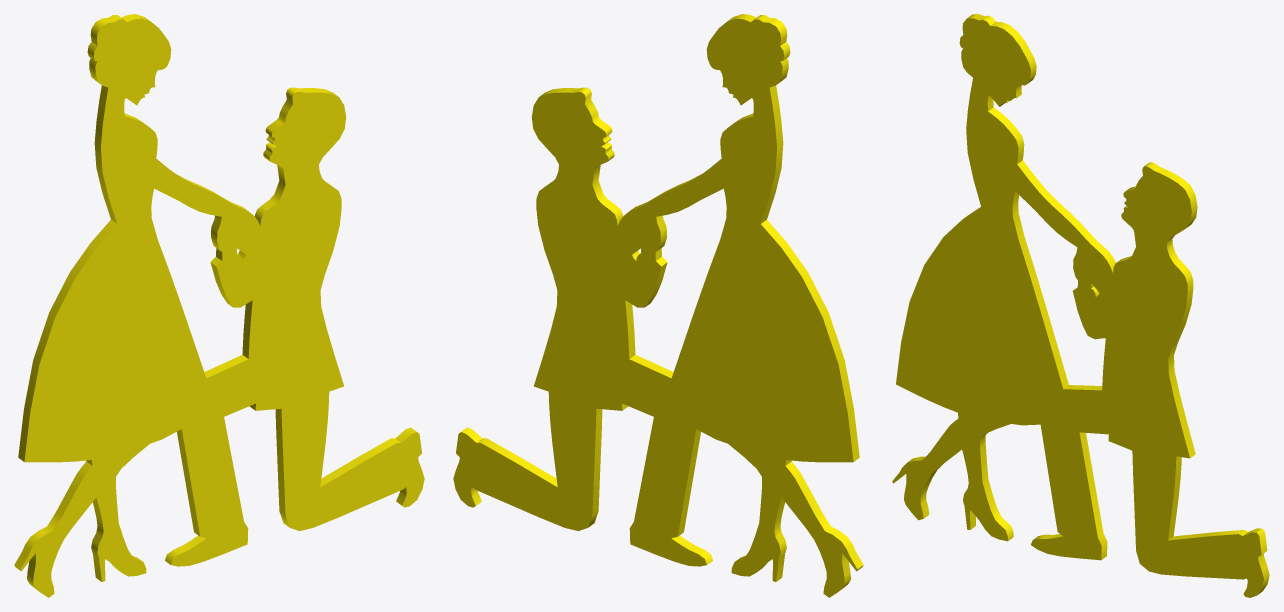
Rendered from Cake_ThemeWedding_D.FBX.
The picture shows the model from 3 angles, left to right: view 1: azimuth 30°, elevation 25°; view 2: azimuth 150°, elevation 25°; view 3: azimuth 330°, elevation 25°; orthographic projection. The views are drawn at different scales.
Parts seen in each view (by area): view 1: Cake_ThemeWedding_D; view 2: Cake_ThemeWedding_D; view 3: Cake_ThemeWedding_D.
Boxes of the visible parts, x1,y1,x2,y2 form: Cake_ThemeWedding_D: [14, 14, 424, 597]; Cake_ThemeWedding_D: [453, 14, 863, 597]; Cake_ThemeWedding_D: [892, 14, 1269, 597].
Bounding box in the file's own units: 62931 × 83842 × 1666.
